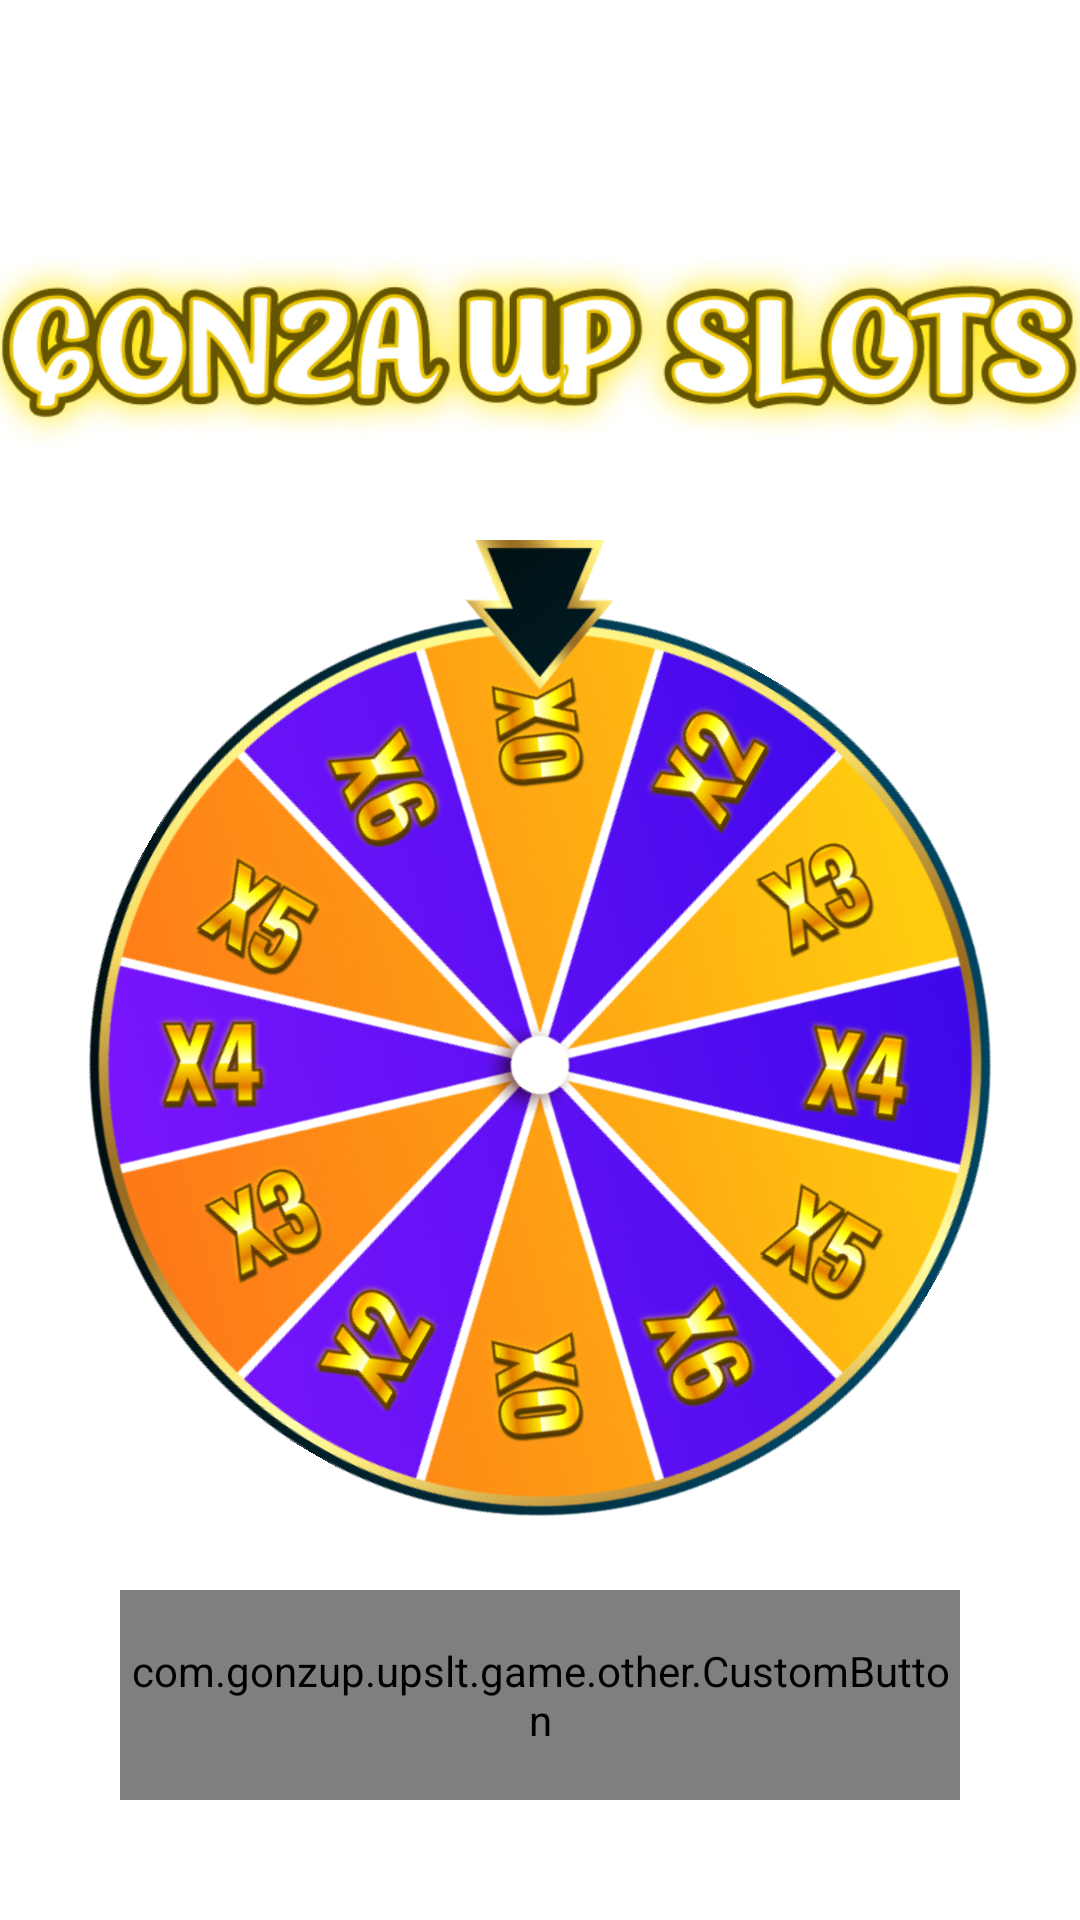

Icons on this 1080*1920 Android screen, each with the point to tap as point (x, y):
spin wheel arrow: point (540, 615)
